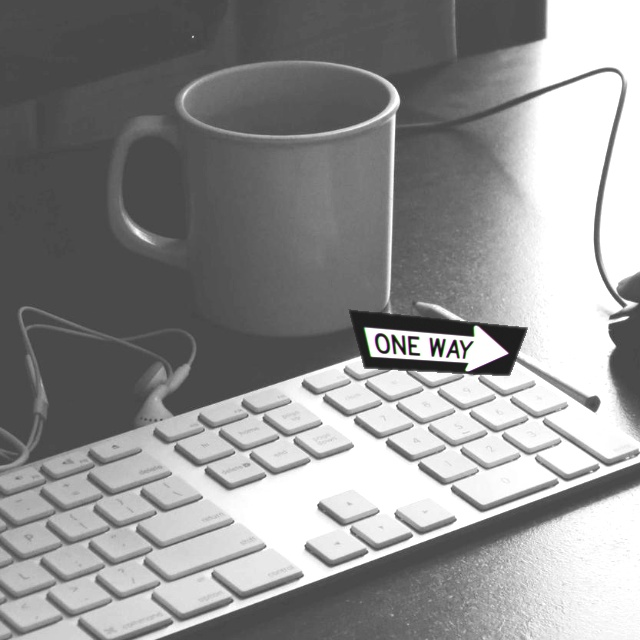ONE_WAY_ right: (348, 309, 528, 376)
